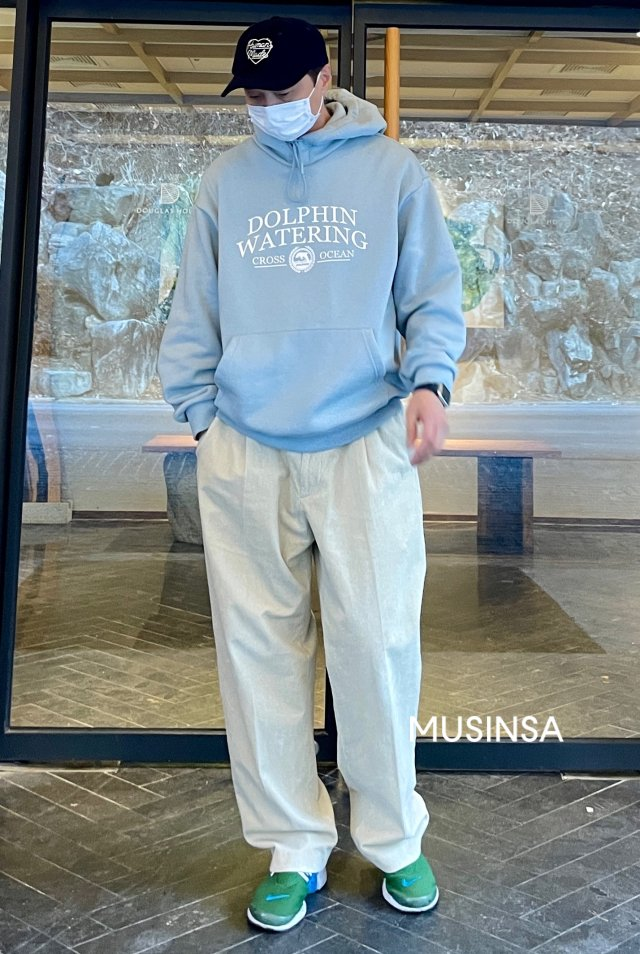Accessories: (411, 378, 456, 404)
Cap: (210, 16, 335, 88)
Hoodie: (158, 87, 476, 440)
Mask: (241, 96, 331, 141)
Pants: (224, 401, 452, 862)
Shoes: (247, 844, 456, 938)
